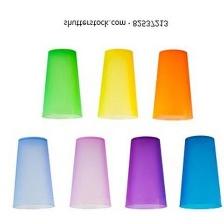glass: (8, 132, 61, 214), (144, 45, 199, 124), (64, 131, 114, 215), (34, 43, 85, 125), (120, 130, 170, 213), (90, 43, 140, 125), (174, 131, 223, 212)
